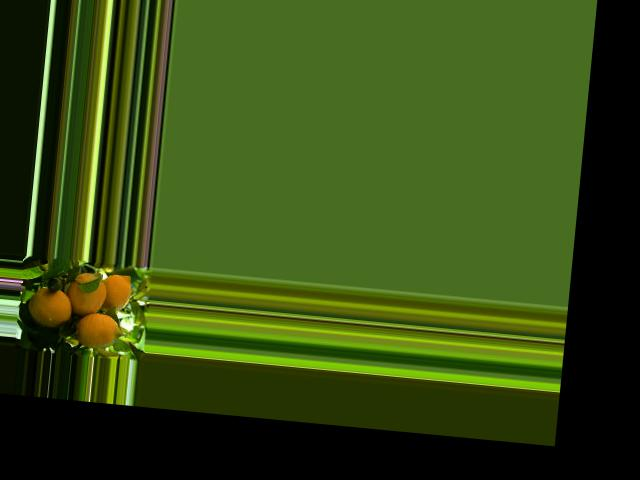lemon: (24, 281, 74, 331)
